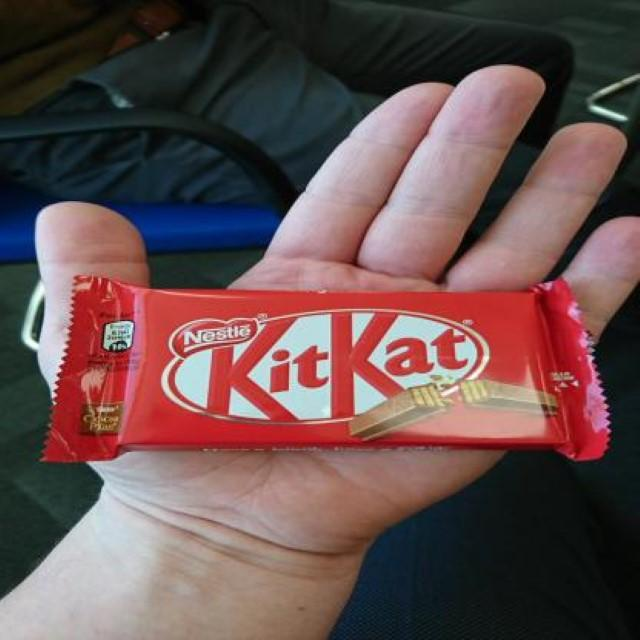kitkat_chocolate: (70, 272, 610, 452)
